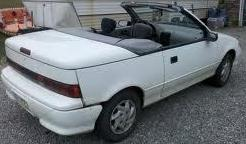back_view: (6, 44, 89, 135)
backlight: (33, 73, 95, 106)
